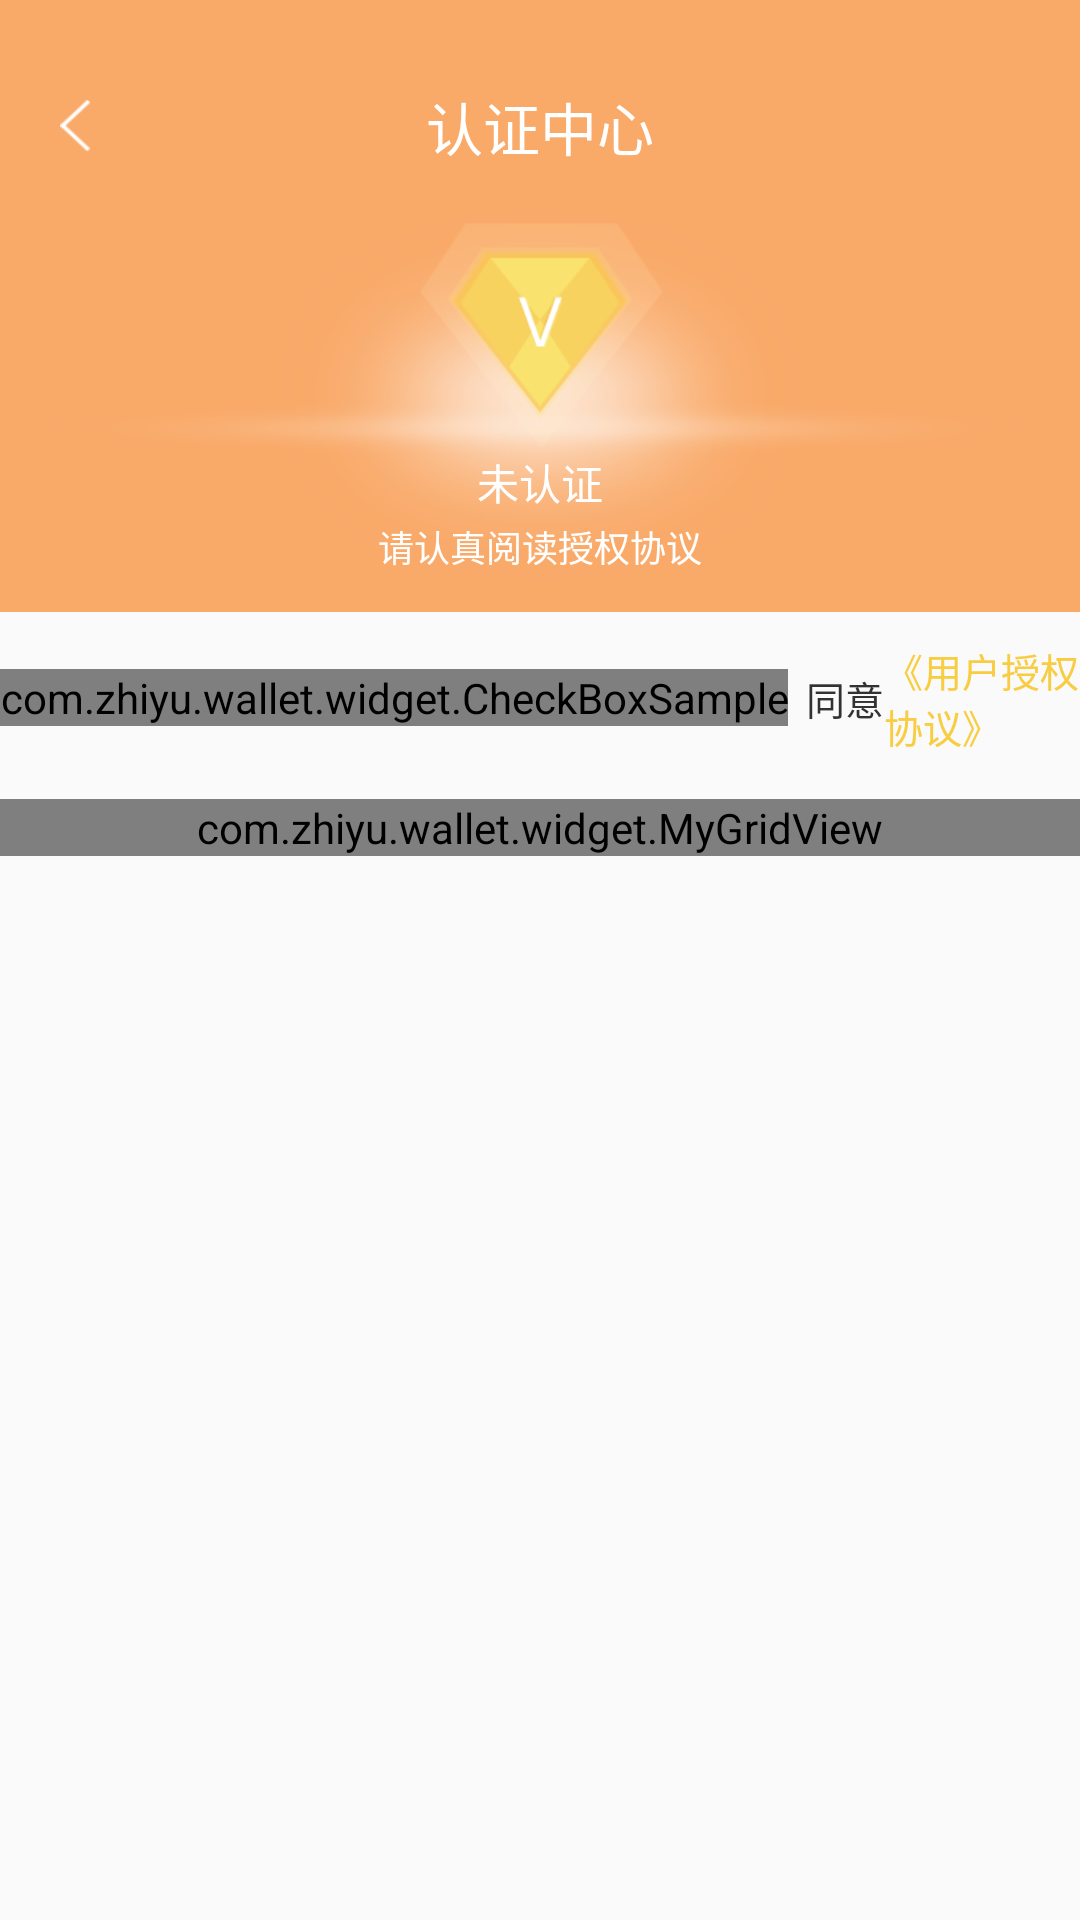

Named icons in this screenshot (1080 × 1920) and their centers, point (x, y):
return while: point (75, 125)
